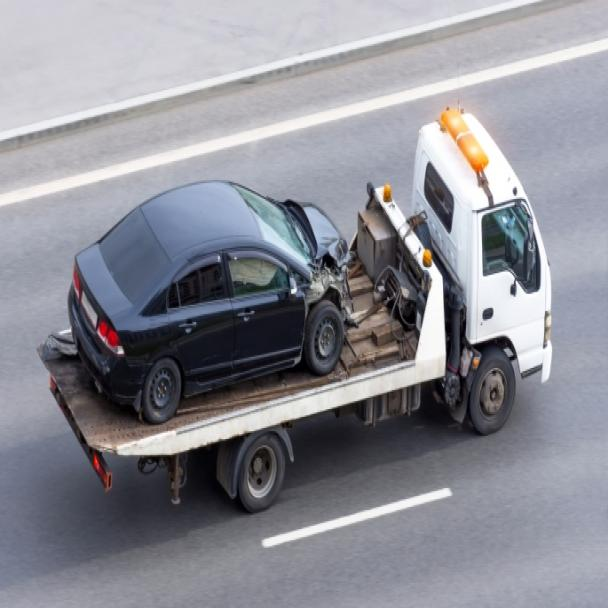Mobil: (14, 77, 571, 560), (62, 183, 356, 424), (560, 436, 564, 440)
